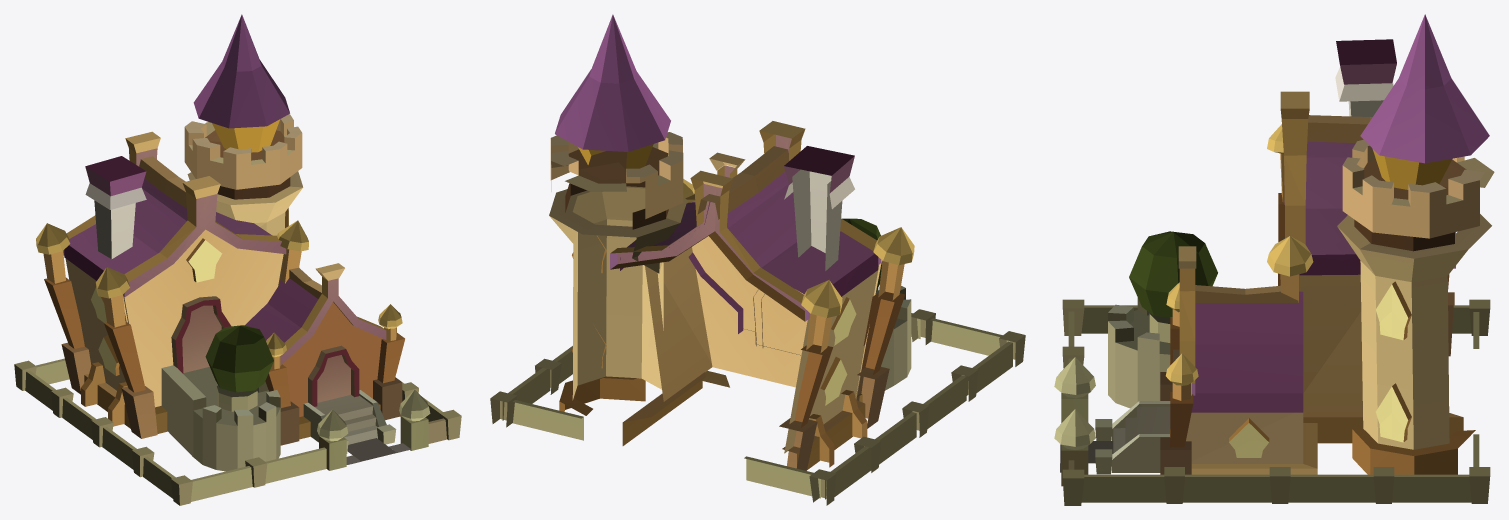
File: building44.fbx
3 views of the same model, side by side, from view 1: azimuth 30°, elevation 25°; view 2: azimuth 150°, elevation 25°; view 3: azimuth 270°, elevation 25° (orthographic). The views are drawn at different scales.
Visible parts, largest first — view 1: building44; view 2: building44; view 3: building44.
Part boxes in pixels (x1,y1,x2,y2): building44: [14, 14, 461, 505]; building44: [490, 14, 1025, 505]; building44: [1054, 14, 1494, 505].
Size of the model in its own units: 2.97 by 3.43 by 3.09.
Materials: 1 (1 with a texture image).
